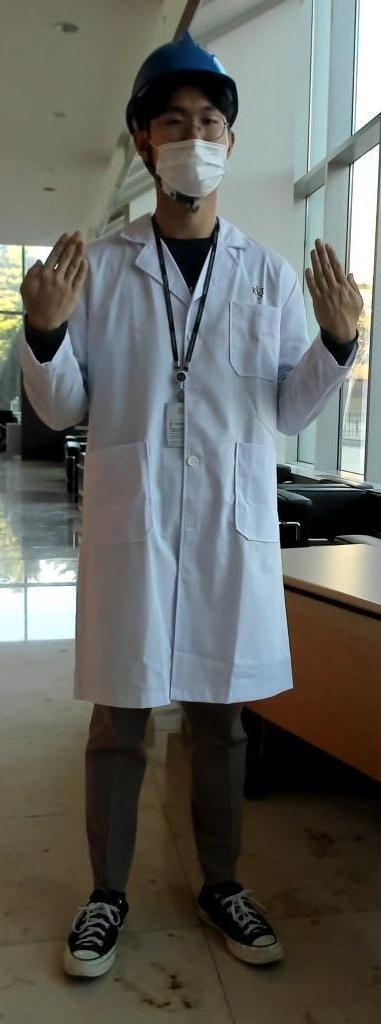lab_coat: (88, 242, 300, 696)
